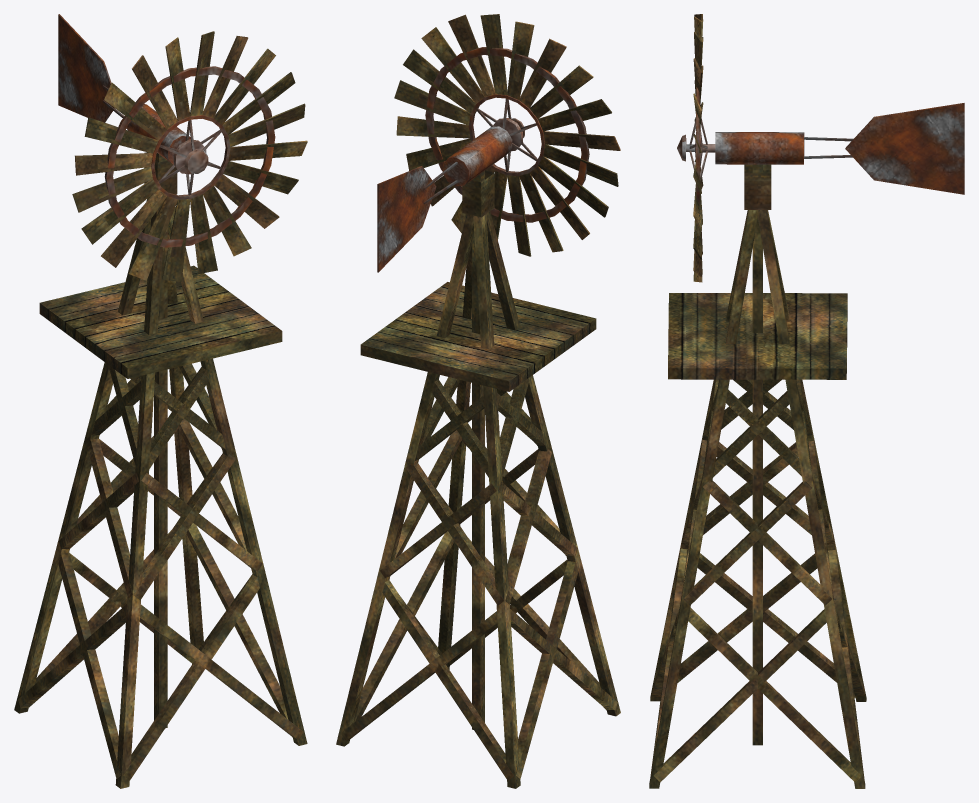
File: MH_env_windmill_00.fbx
3 renders of one model, left to right at view 1: azimuth 30°, elevation 25°; view 2: azimuth 150°, elevation 25°; view 3: azimuth 270°, elevation 25°, orthographic. The views are drawn at different scales.
Visible parts, largest first — view 1: body, shovels, rotate; view 2: body, shovels, rotate; view 3: body, rotate, shovels.
Part boxes in pixels (x1,y1,x2,y2): body: (14,152,307,788); shovels: (72,31,307,281); rotate: (58,14,190,164); body: (336,170,620,788); shovels: (394,14,620,256); rotate: (377,126,512,272); body: (649,164,866,788); rotate: (715,103,964,194); shovels: (677,14,715,282).
Bounding box in the file's own units: 4.19 × 12.36 × 4.94.
1 material, 1 textured.
